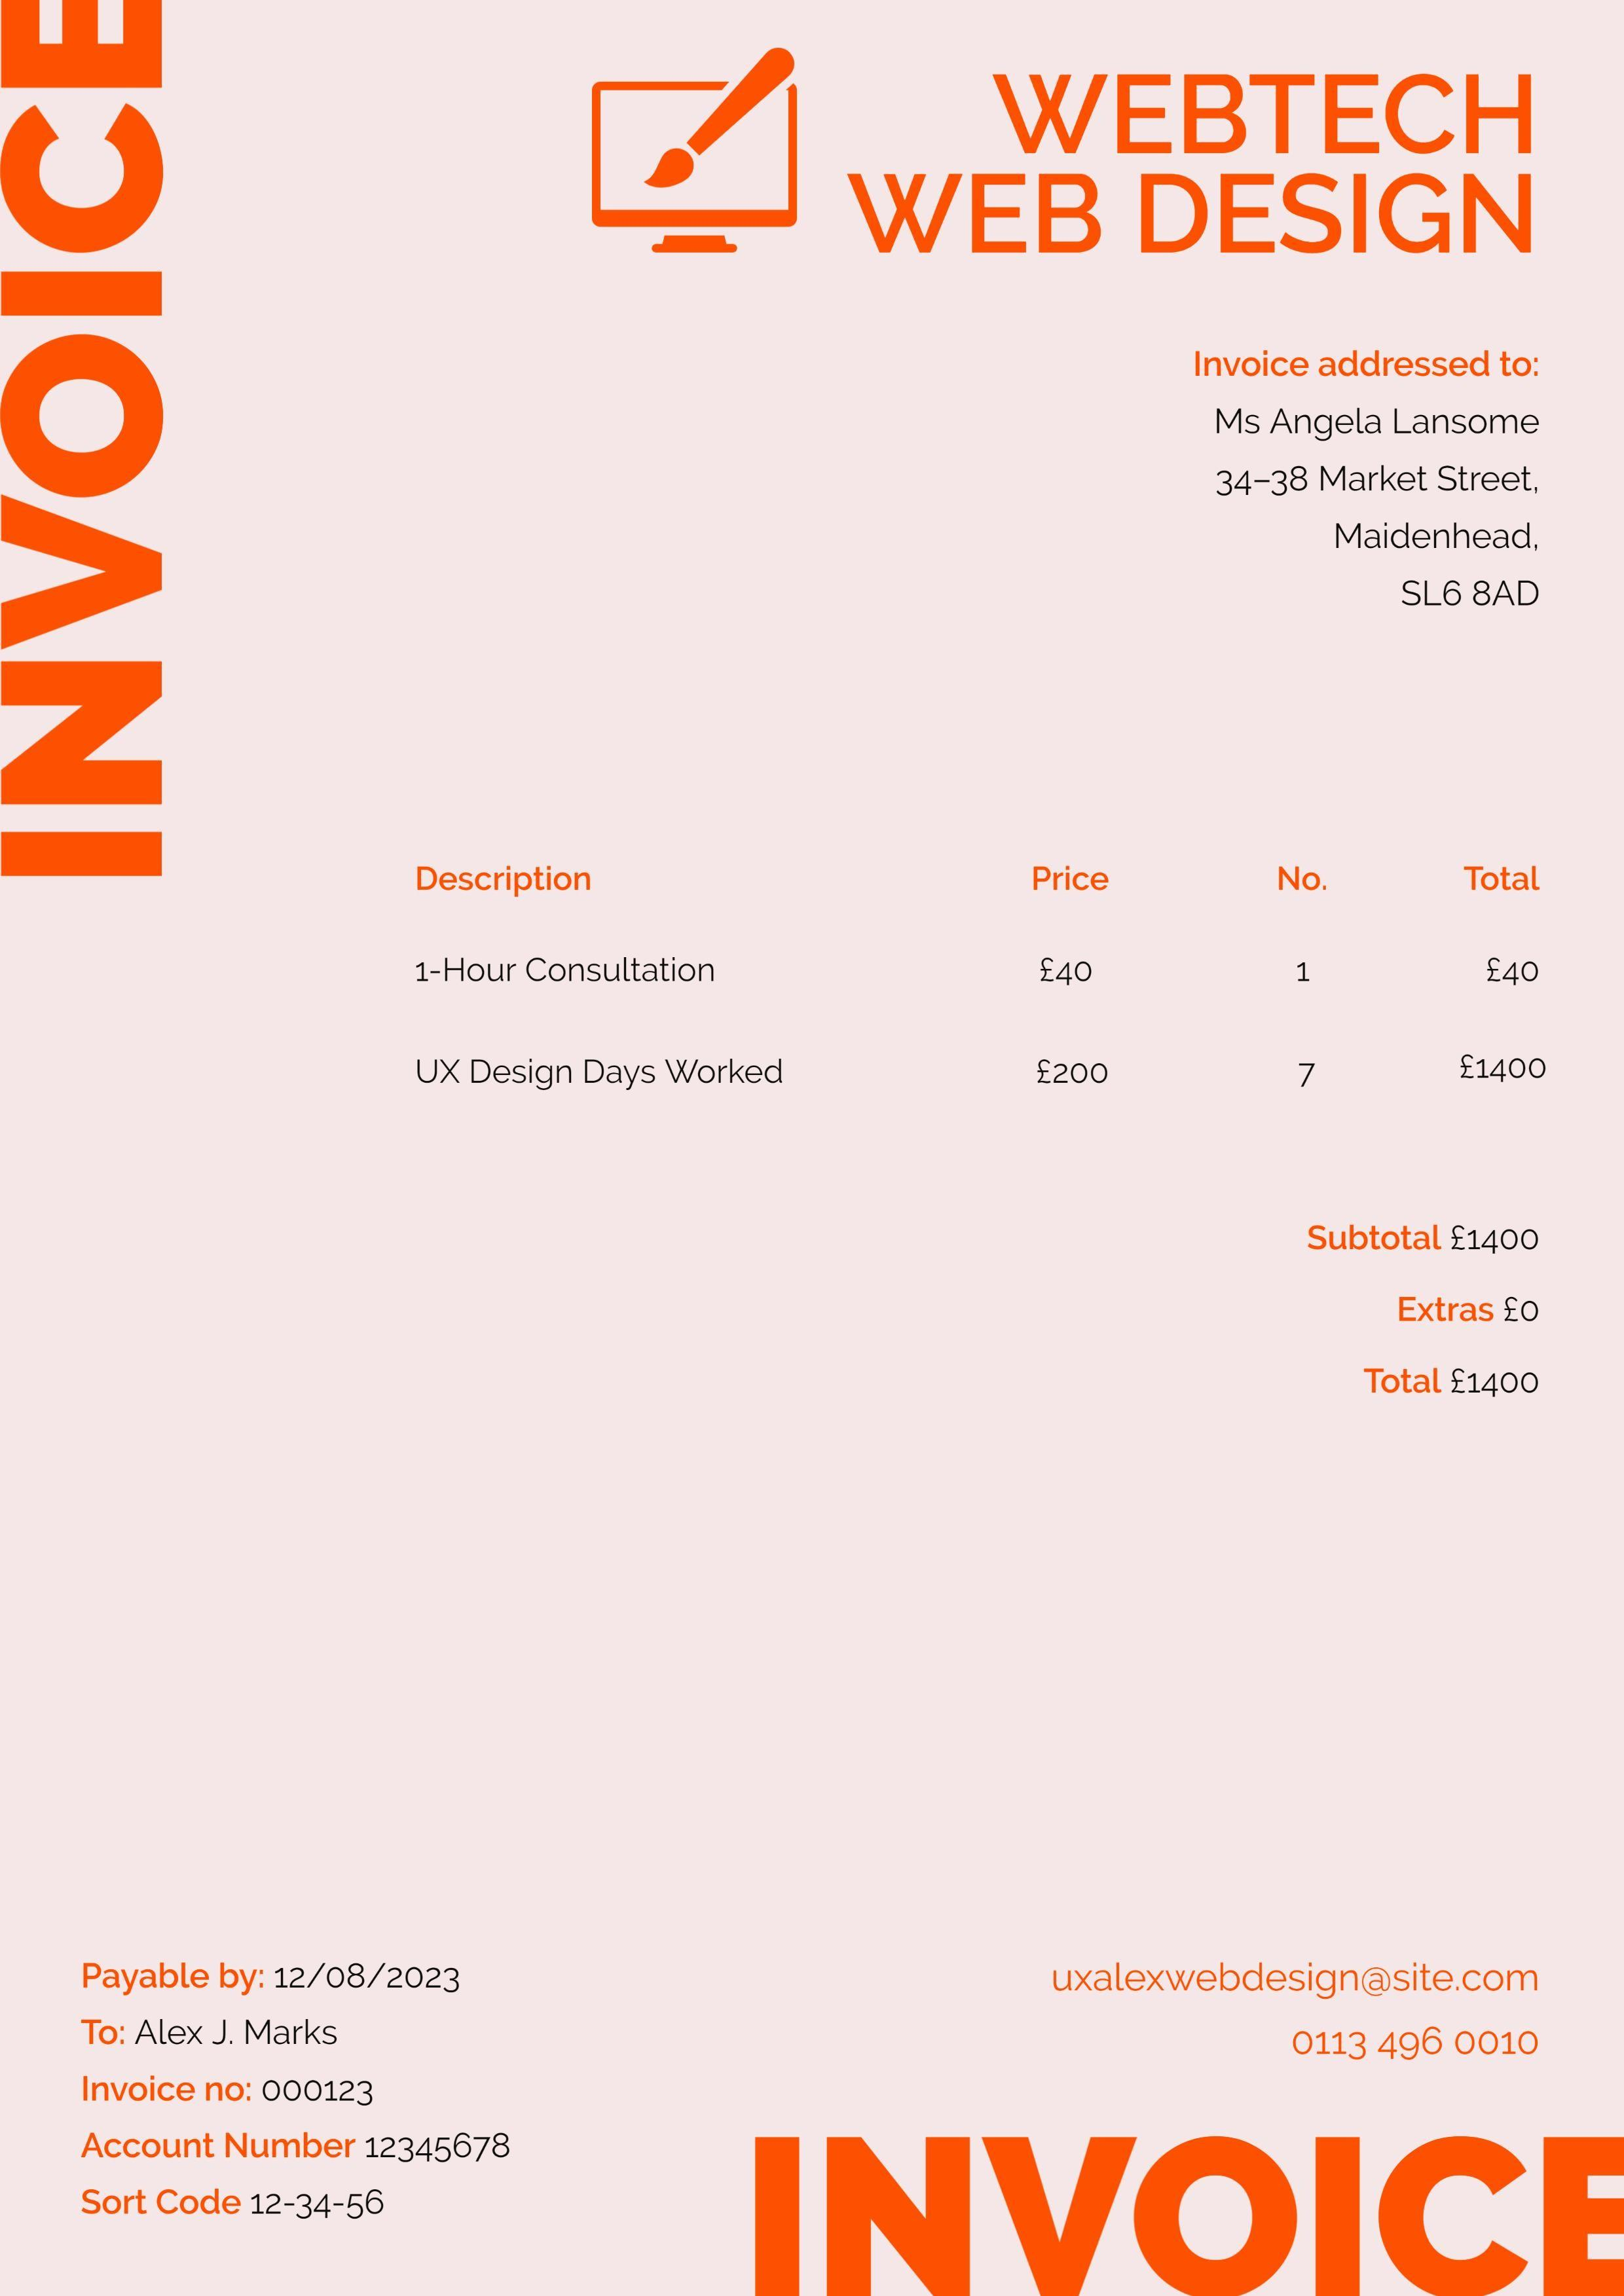ROI: (401, 854, 1573, 1151), (46, 1895, 608, 2259), (833, 42, 1585, 278), (1137, 325, 1571, 632), (1292, 1198, 1575, 1440)
